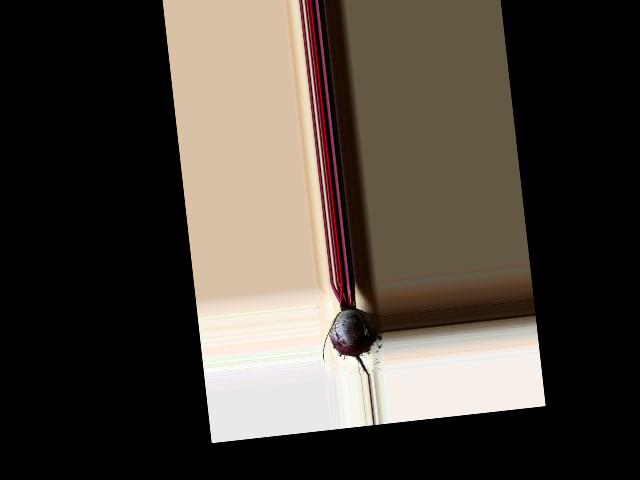beet: (315, 280, 381, 380)
